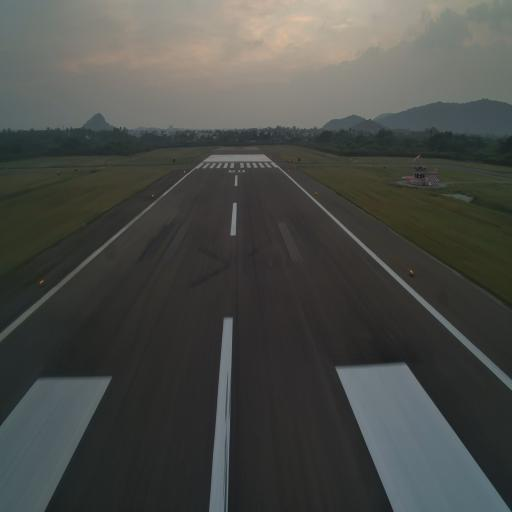on: (37, 276, 46, 289), (408, 266, 415, 276), (314, 189, 320, 196), (151, 193, 154, 200)
